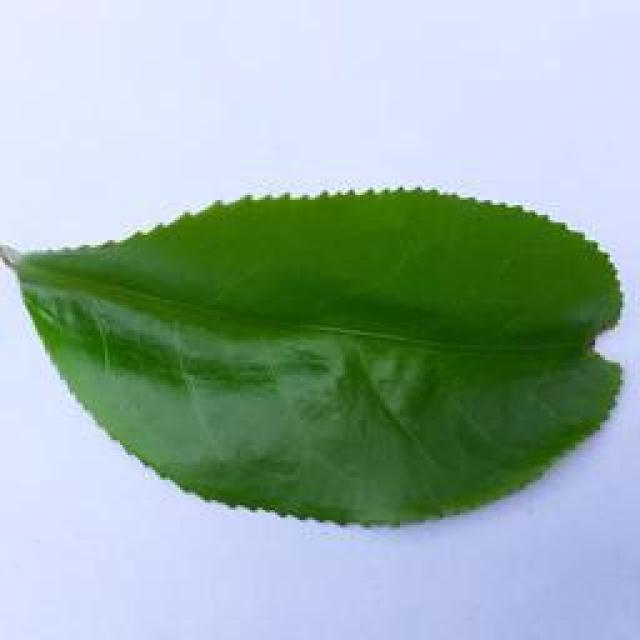Healthy: (0, 191, 640, 517)
